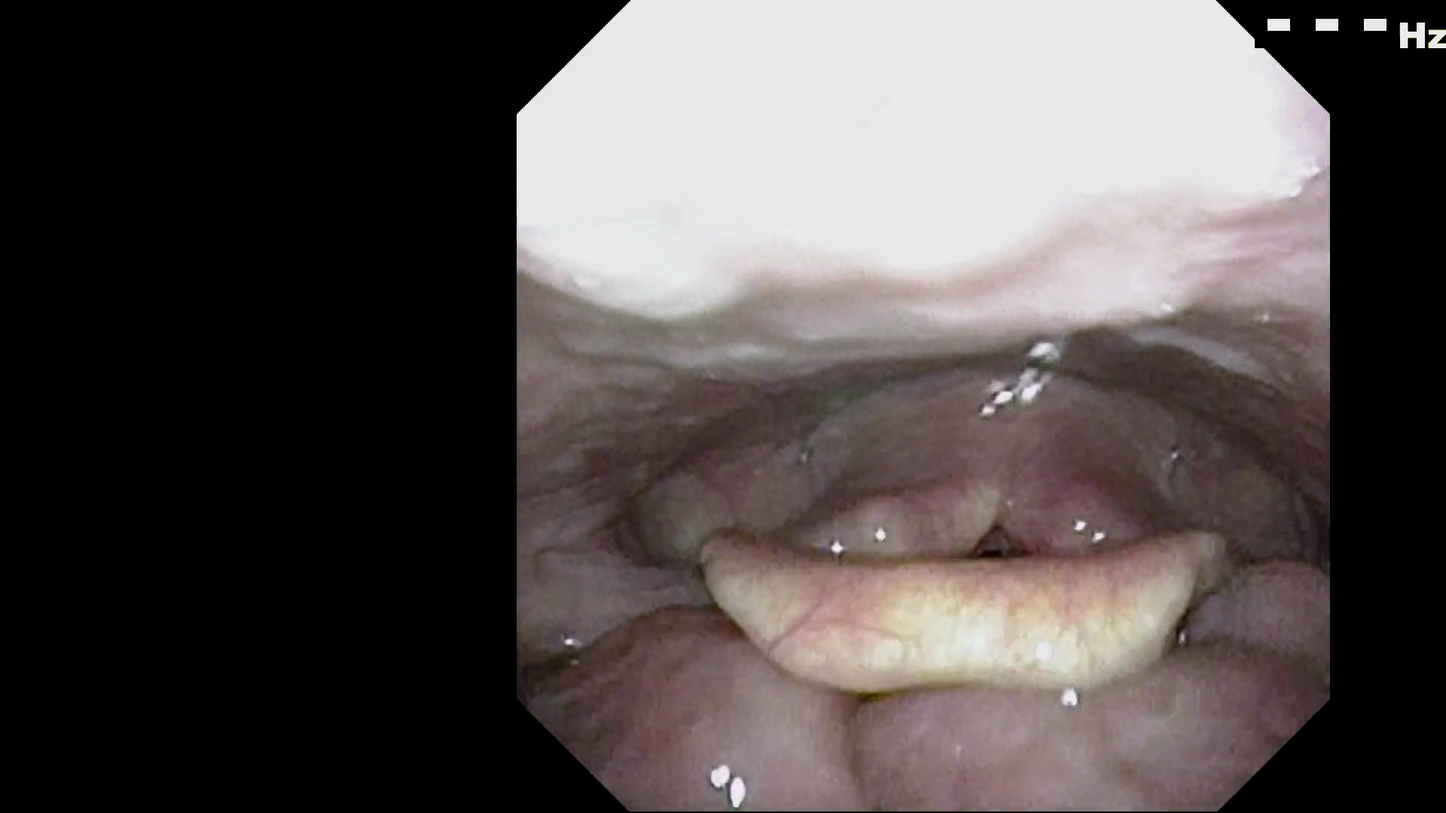epiglottis: (693, 509, 1235, 649)
